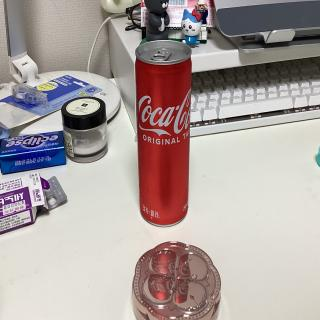cocacola: (132, 37, 194, 226)
